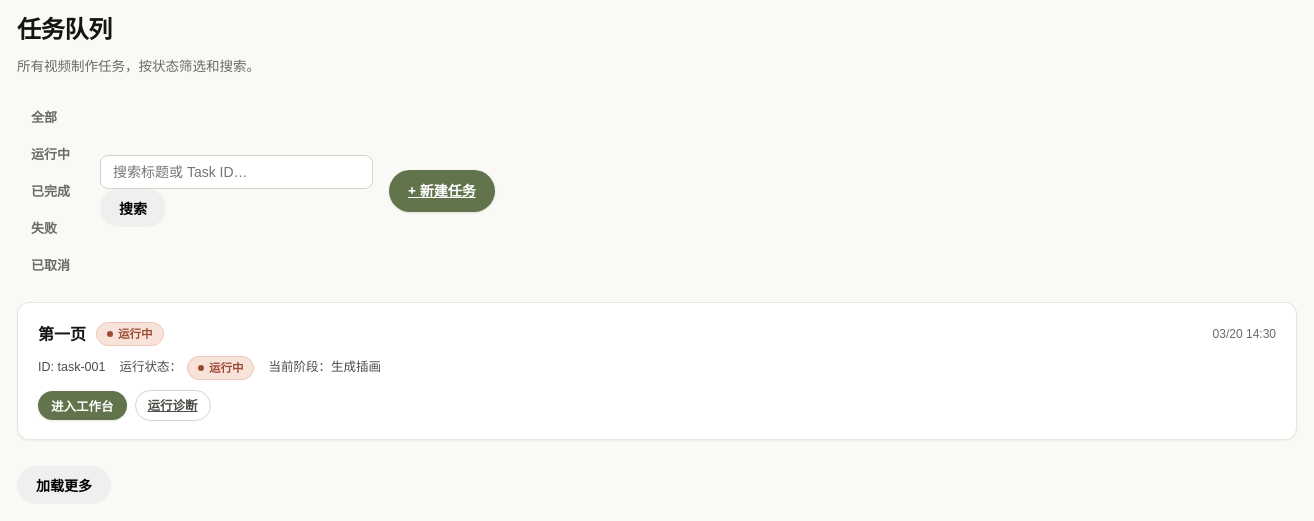
it: TasksPage (§3P production route evidence) › stale pagination response does not append to new filter results
expect the heading "第一页" is shown: met, box [38,321,86,348]
Click the button "加载更多" at {"x": 64, "y": 485}, box [17,466,111,504]
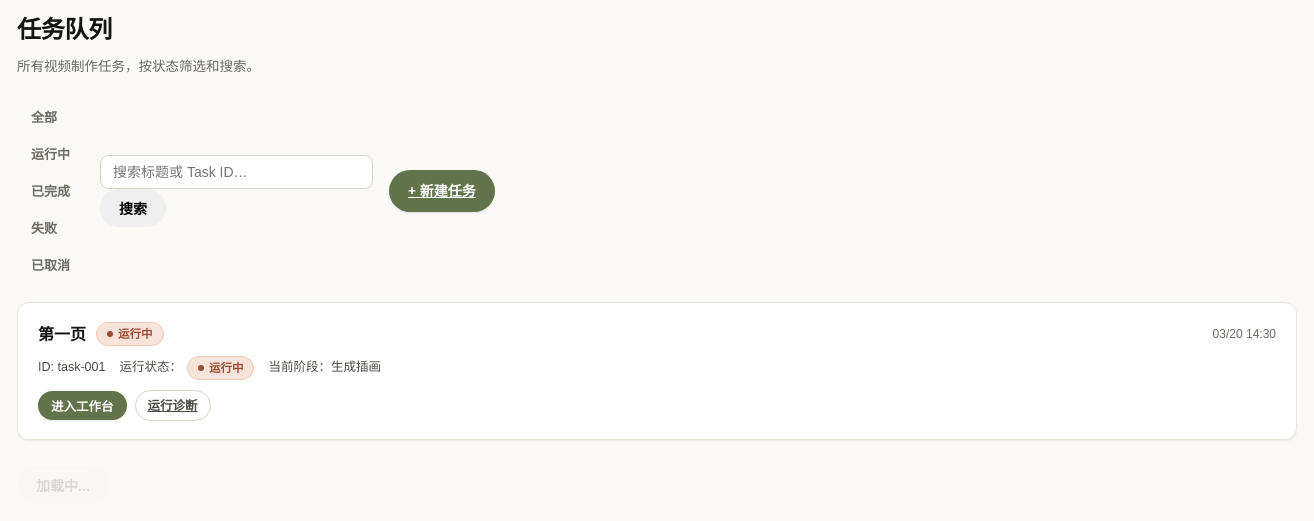
Click the tab "已完成" at {"x": 50, "y": 191}, box [17,173,84,210]
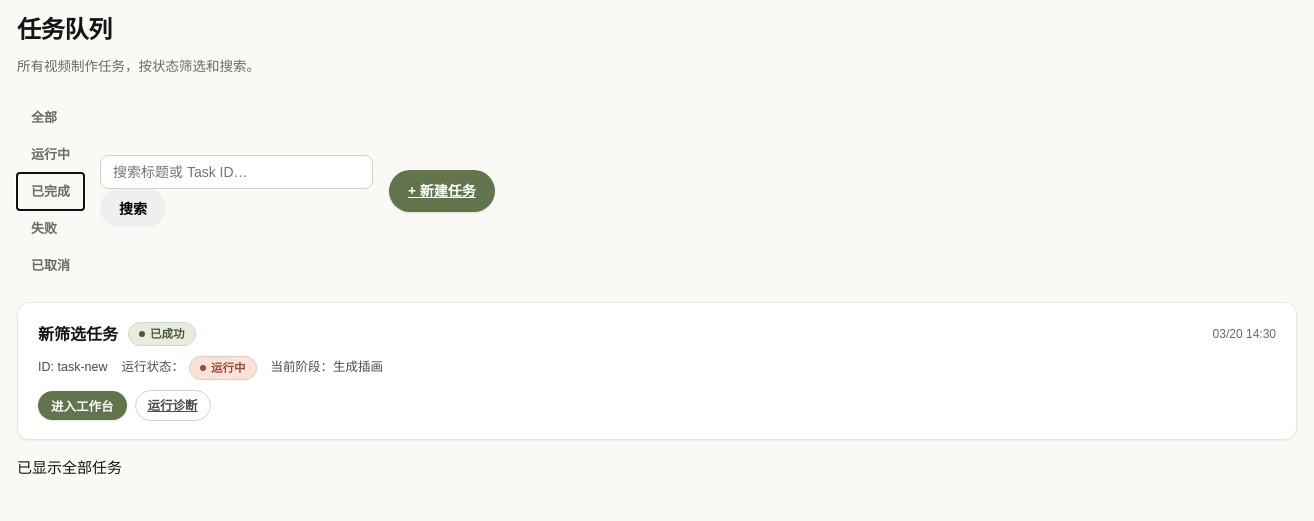
expect the heading "新筛选任务" is shown: met, box [38,321,118,348]
